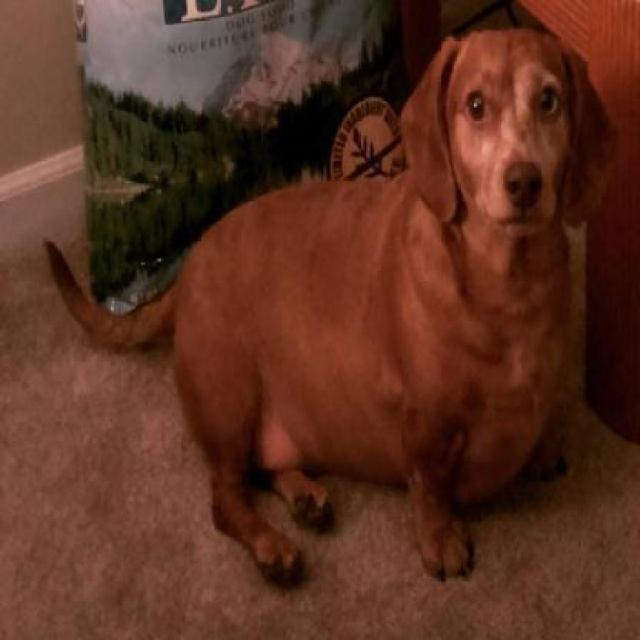Dog: (39, 26, 616, 591)
